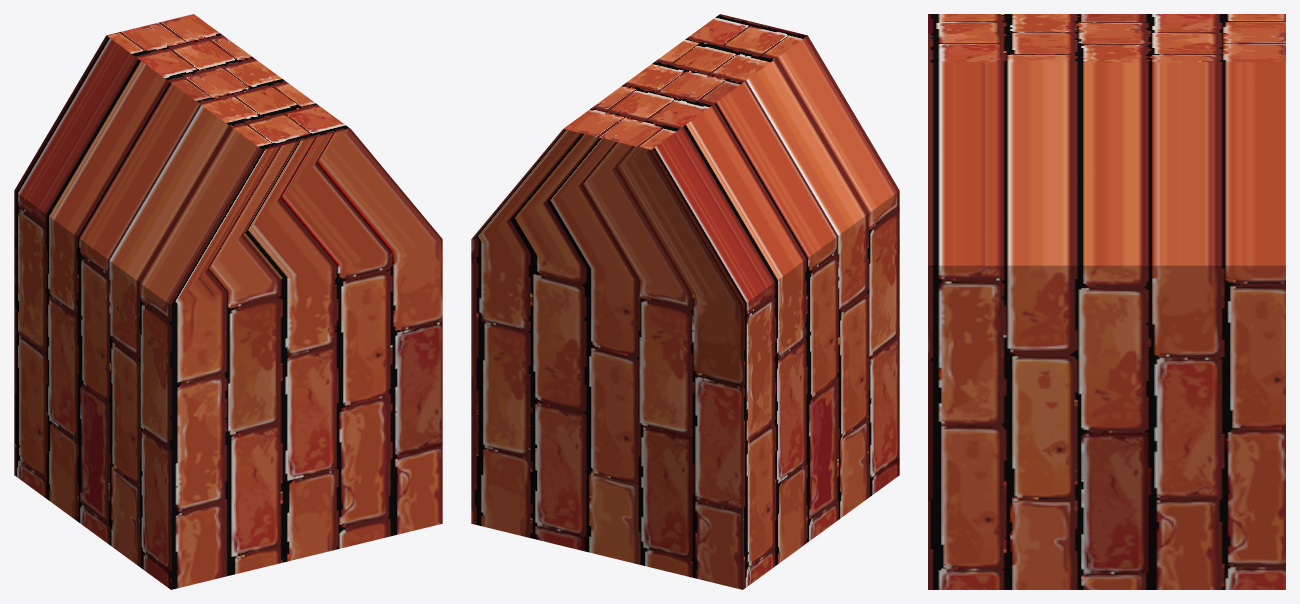
Rendered from house.glb.
3 renders of one model, left to right at view 1: azimuth 30°, elevation 25°; view 2: azimuth 150°, elevation 25°; view 3: azimuth 270°, elevation 25°, orthographic. The views are drawn at different scales.
Visible parts, largest first — view 1: Cube; view 2: Cube; view 3: Cube.
Boxes of the visible parts, bbox=[...] form: Cube: bbox=[14, 14, 442, 589]; Cube: bbox=[471, 14, 899, 589]; Cube: bbox=[928, 14, 1285, 589].
Size of the model in its own units: 2 by 2.93 by 2.
Materials: 1 (1 with a texture image).
